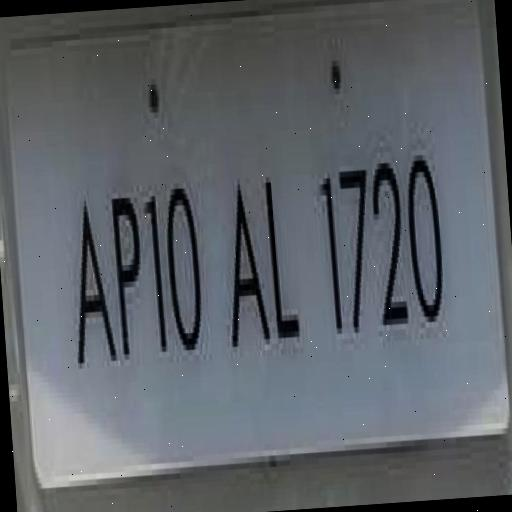number plate: (0, 0, 505, 485)
